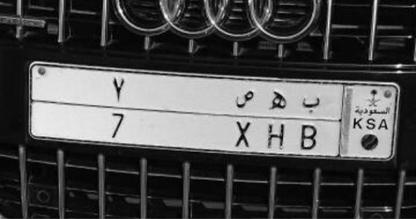license plate: (25, 53, 402, 166)
